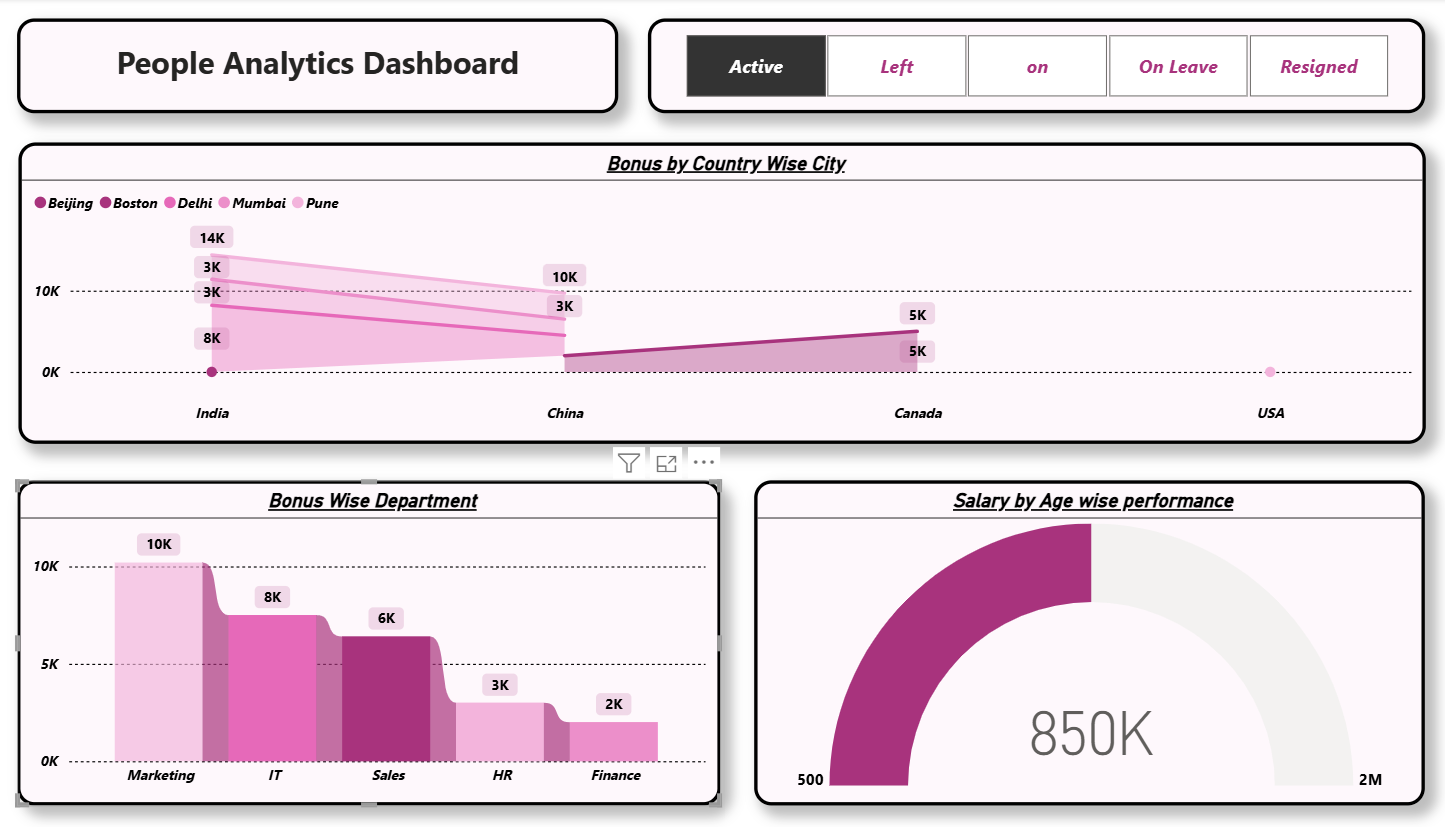

This screenshot's page, from the dashboard's own definition file:
{"tool":"powerbi","page":{"name":"Page 1","canvas":[1280,720],"ordinal":0},"visuals":[{"type":"columnChart","title":" Bonus Wise Department","fields":{"Y":["Sum(unclean_powerbi_data (1).Bonus)"],"Category":["unclean_powerbi_data (1).Department"]},"box":[30.1,418.4,610.1,282.1],"z":0},{"type":"gauge","title":"Salary by Age wise performance","fields":{"Y":["Sum(unclean_powerbi_data (1).Salary)"],"MinValue":["Sum(unclean_powerbi_data (1).Age)"]},"box":[668.8,418.4,581.6,282.1],"z":1000},{"type":"stackedAreaChart","title":" Bonus by Country Wise City","fields":{"Series":["unclean_powerbi_data (1).City"],"Y":["Sum(unclean_powerbi_data (1).Bonus)"],"Category":["unclean_powerbi_data (1).Country"]},"box":[30.2,124.6,1220,261.1],"z":2000},{"type":"slicer","fields":{"Values":["unclean_powerbi_data (1).Status"]},"box":[576.8,17.4,673.5,82.4],"z":3000},{"type":"textbox","box":[30.1,17.4,521.4,82.4],"z":3001}]}

Visuals, with their boxes in screenshot pixels (x1, y1, x2, y2), scaled from the page's 1280x720 canvas onto the 1445x827 screenshot:
" Bonus Wise Department" columnChart: (left=34, top=481, right=723, bottom=805)
"Salary by Age wise performance" gauge: (left=755, top=481, right=1412, bottom=805)
" Bonus by Country Wise City" stackedAreaChart: (left=34, top=143, right=1411, bottom=443)
slicer - unclean_powerbi_data (1).Status: (left=651, top=20, right=1411, bottom=115)
textbox: (left=34, top=20, right=623, bottom=115)
